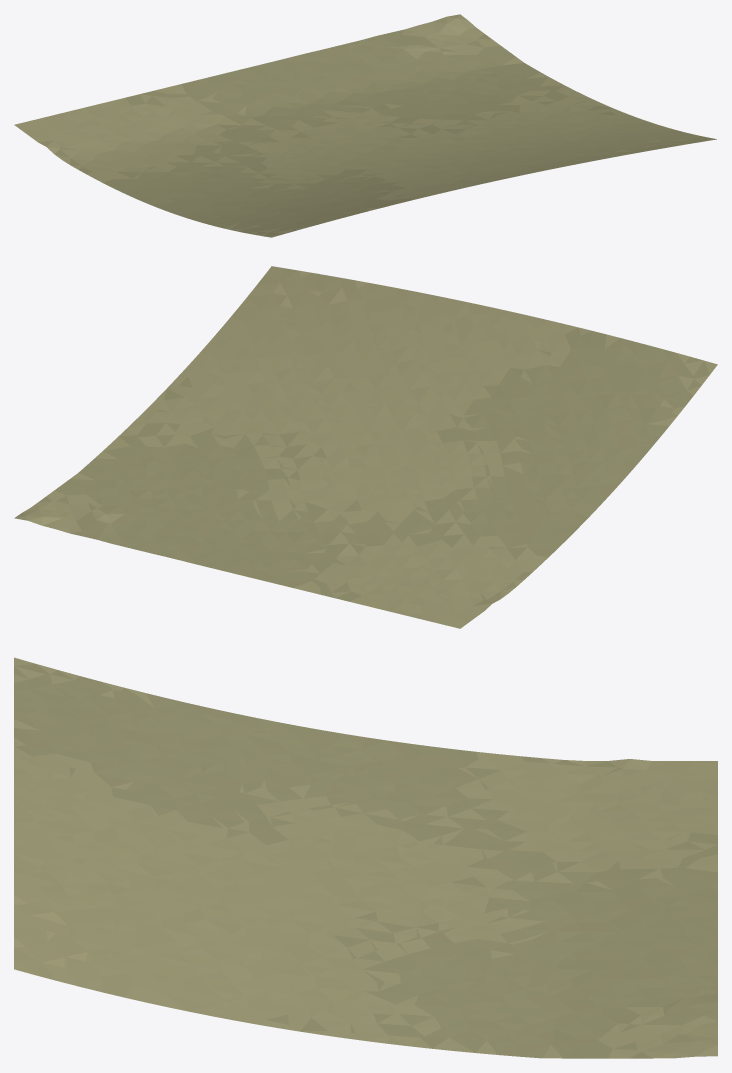
File: Ground_6_5.glb
3 renders of one model, top to bottom at view 1: azimuth 30°, elevation 25°; view 2: azimuth 150°, elevation 25°; view 3: azimuth 270°, elevation 25°, orthographic. The views are drawn at different scales.
Visible parts, largest first — view 1: Ground_6_5; view 2: Ground_6_5; view 3: Ground_6_5.
Part boxes in pixels (<box>): Ground_6_5: <box>14,14,716,237</box>; Ground_6_5: <box>14,266,717,628</box>; Ground_6_5: <box>14,657,717,1058</box>.
Bounding box in the file's own units: 768 × 130 × 768.
